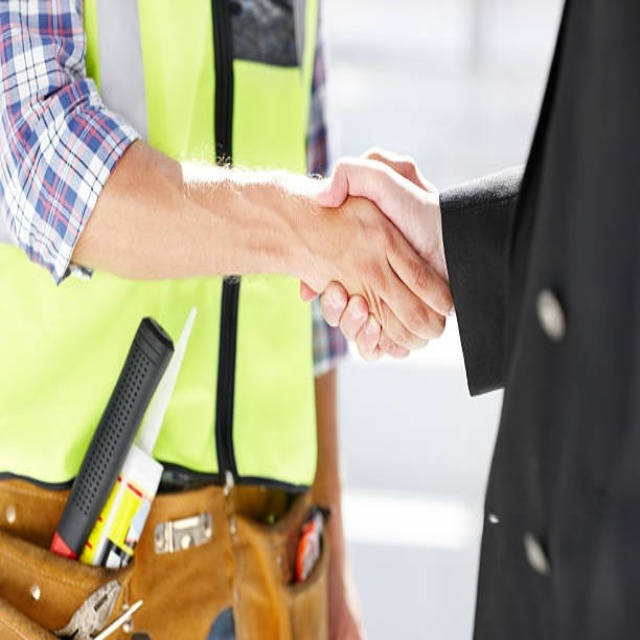Sin_guantes: (290, 146, 455, 363)
